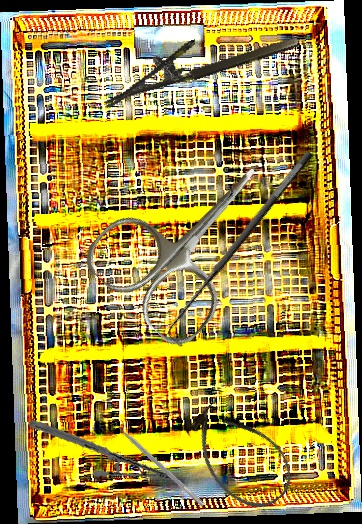Cannula: (175, 389, 305, 523)
Hook Surgical: (157, 148, 328, 348)
Iris Scissors: (77, 123, 306, 354)
Needle Holder: (94, 10, 300, 109), (28, 401, 176, 500)
Spatula Surgical: (109, 416, 209, 508)
